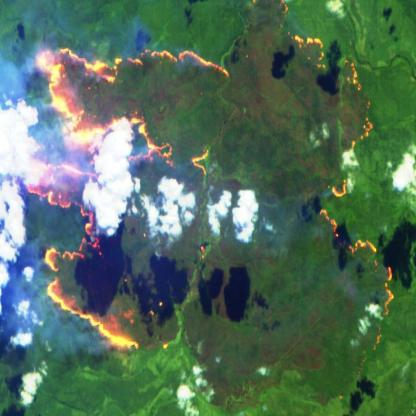fire: (0, 30, 416, 361)
